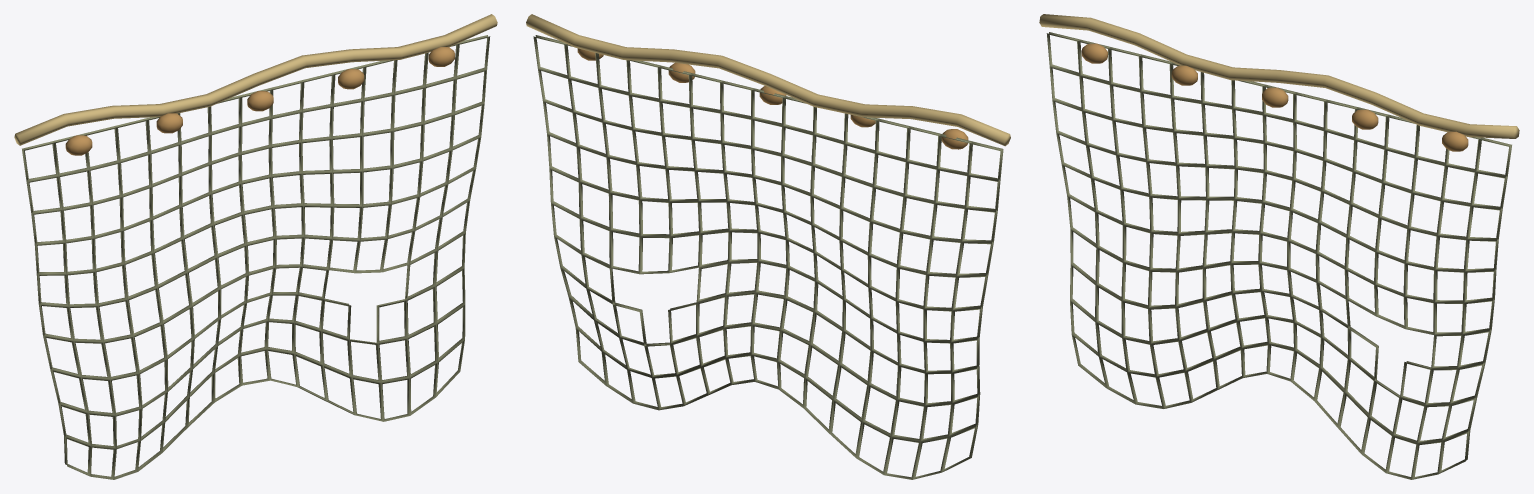
The model's file is fishing_net.glb.
The picture shows the model from 3 angles, left to right: view 1: azimuth 30°, elevation 25°; view 2: azimuth 150°, elevation 25°; view 3: azimuth 330°, elevation 25°; orthographic projection.
Visible parts, largest first — view 1: Fishing_Net_Mesh, Fishing_Net_Rope, Fishing_Net_Floats; view 2: Fishing_Net_Mesh, Fishing_Net_Rope, Fishing_Net_Floats; view 3: Fishing_Net_Mesh, Fishing_Net_Rope, Fishing_Net_Floats.
Boxes of the visible parts, left/top/right/bottom form: Fishing_Net_Mesh: left=22, top=35, right=490, bottom=479; Fishing_Net_Rope: left=14, top=14, right=497, bottom=145; Fishing_Net_Floats: left=65, top=47, right=454, bottom=155; Fishing_Net_Mesh: left=533, top=35, right=1003, bottom=479; Fishing_Net_Rope: left=526, top=14, right=1010, bottom=146; Fishing_Net_Floats: left=577, top=48, right=968, bottom=149; Fishing_Net_Mesh: left=1046, top=32, right=1511, bottom=479; Fishing_Net_Rope: left=1039, top=14, right=1519, bottom=138; Fishing_Net_Floats: left=1081, top=43, right=1468, bottom=151.
Bounding box in the file's own units: 1.85 × 1.38 × 0.1036.
